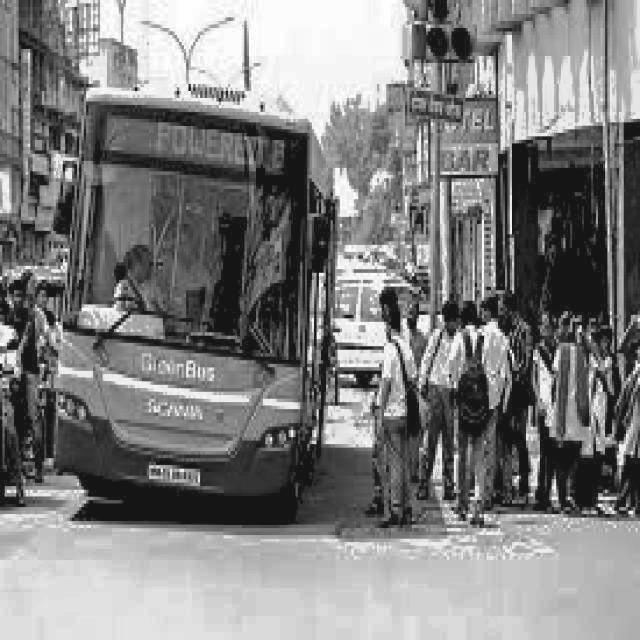Bus: (40, 35, 358, 513)
